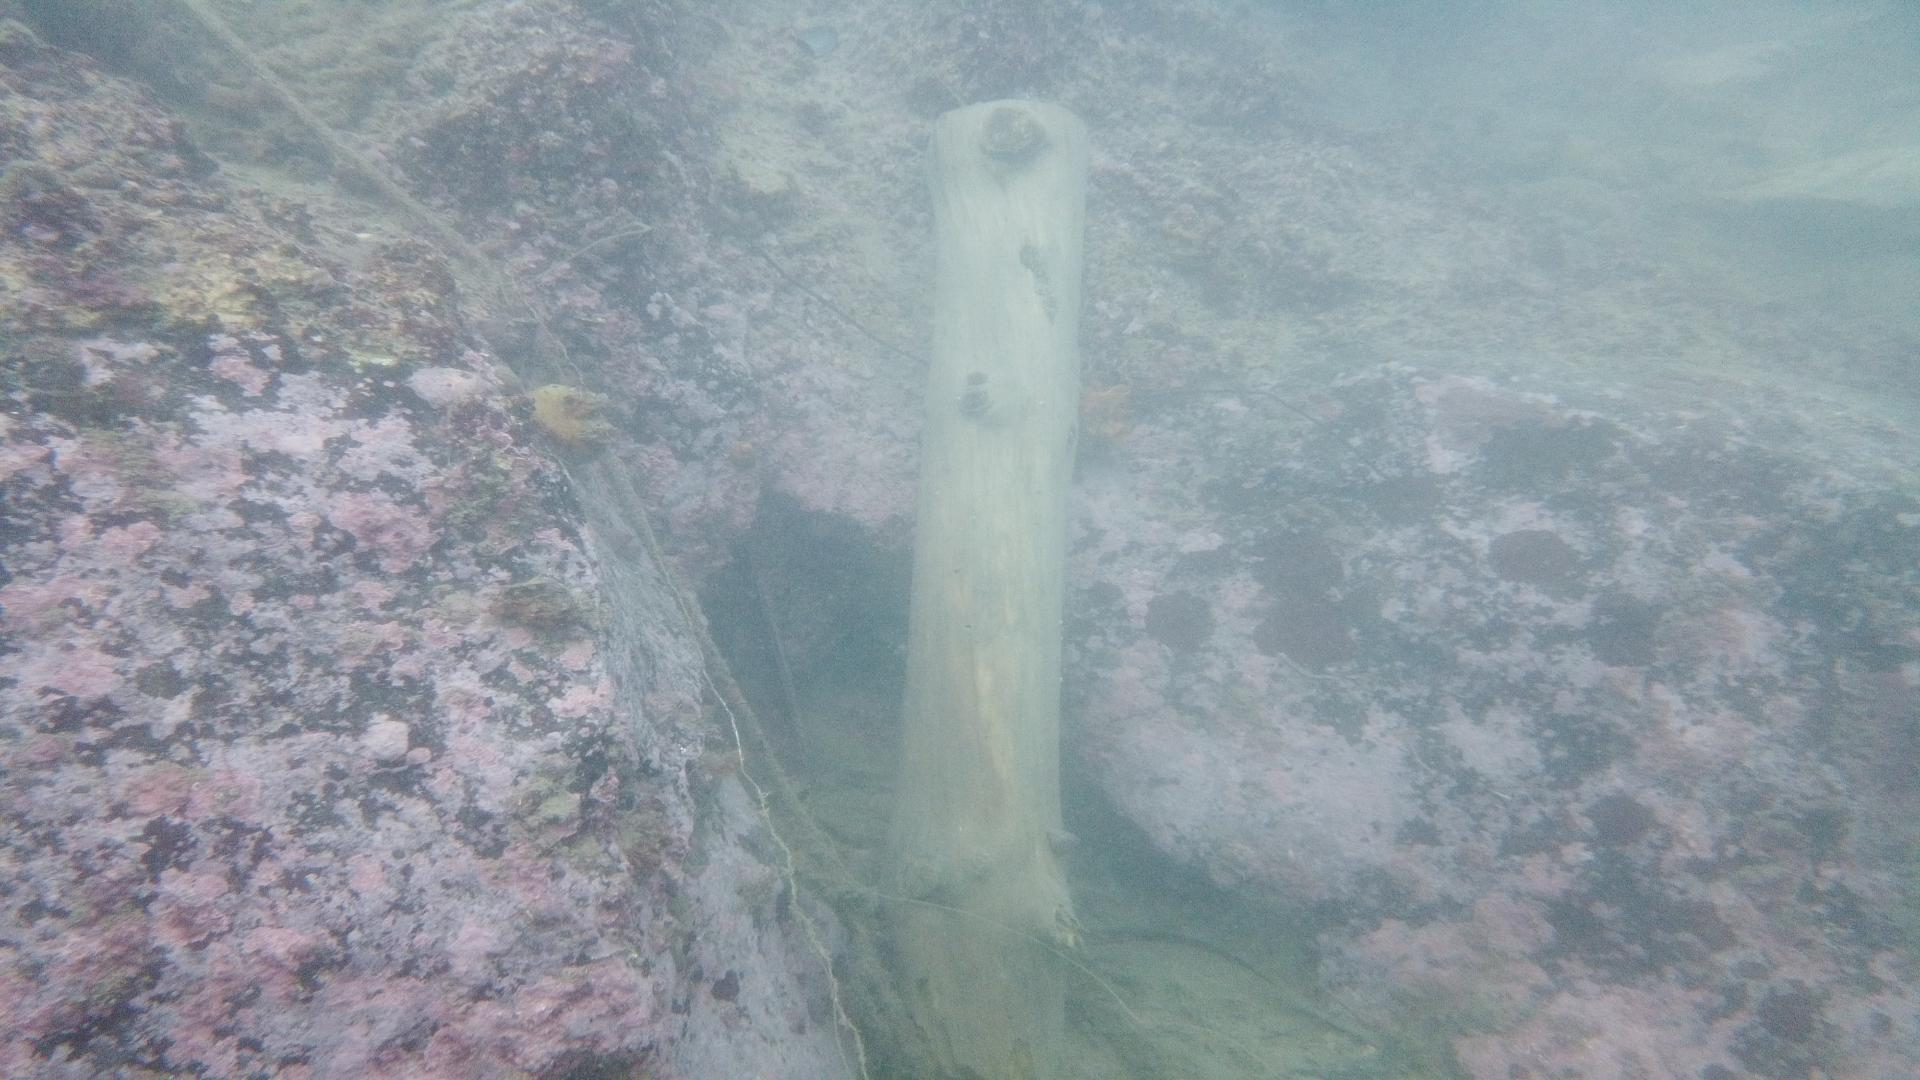rope: (183, 0, 829, 869)
wood: (874, 95, 1091, 1080)
